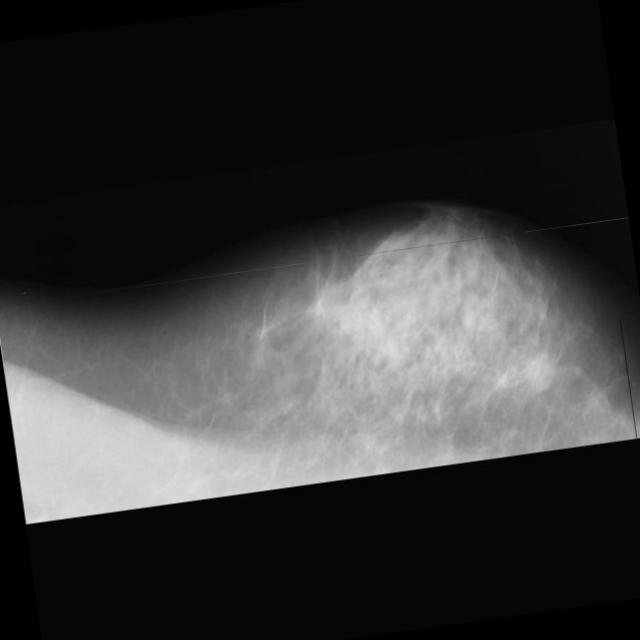SPIC: (516, 348, 560, 392)
